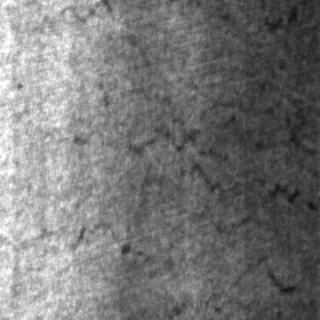crazing: (124, 75, 312, 225), (56, 216, 300, 308)
